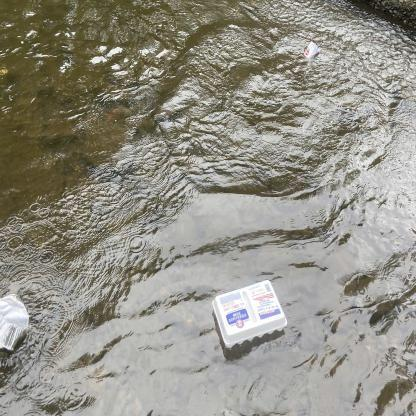Metal: (0, 289, 34, 355), (302, 38, 321, 63)
Plastic: (210, 276, 291, 350)
